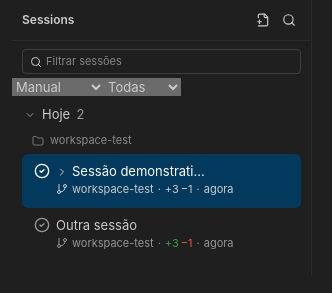
Scenario: SessionSidebar › filtra sessões pelo campo da sidebar mantendo a sessão ativa sempre visível
Step 1. Type "inexistente" into the field with placeholder "Filtrar sessões" → (170, 62), box [46,53,293,70]
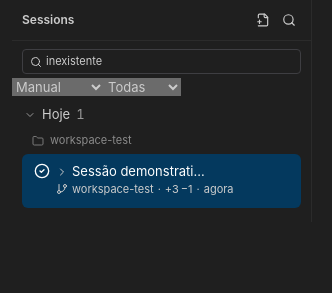
Expected: the text "Sessão demonstrativa" is shown, [72,163,205,180]
Expected: the button "Outra sessão" is gone
